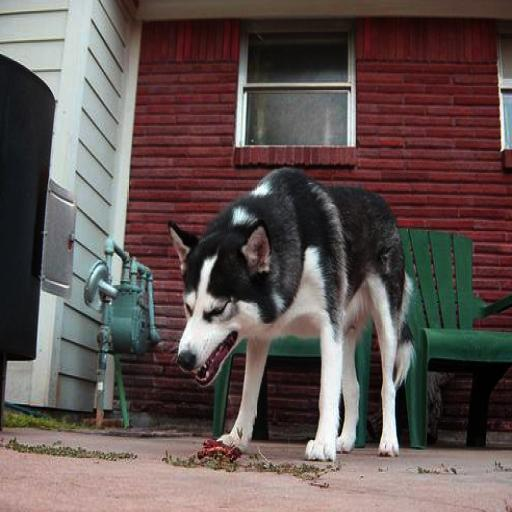dog_face: (159, 222, 272, 379)
